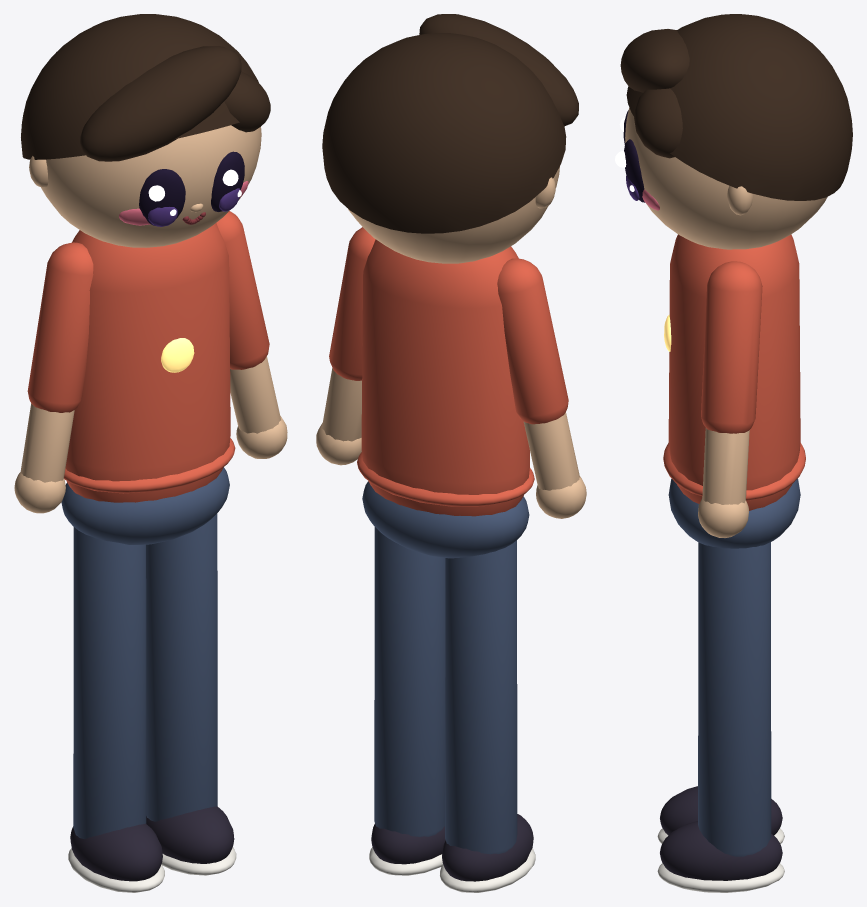
Rendered from boy14.glb.
The picture shows the model from 3 angles, left to right: view 1: azimuth 30°, elevation 25°; view 2: azimuth 150°, elevation 25°; view 3: azimuth 270°, elevation 25°; orthographic projection.
Parts seen in each view (by area): view 1: boy14; view 2: boy14; view 3: boy14.
Boxes of the visible parts, x1=… form: boy14: x1=14, y1=14, x2=287, y2=892; boy14: x1=316, y1=14, x2=586, y2=892; boy14: x1=615, y1=14, x2=852, y2=892.
Size of the model in its own units: 0.5511 by 1.66 by 0.4258.
